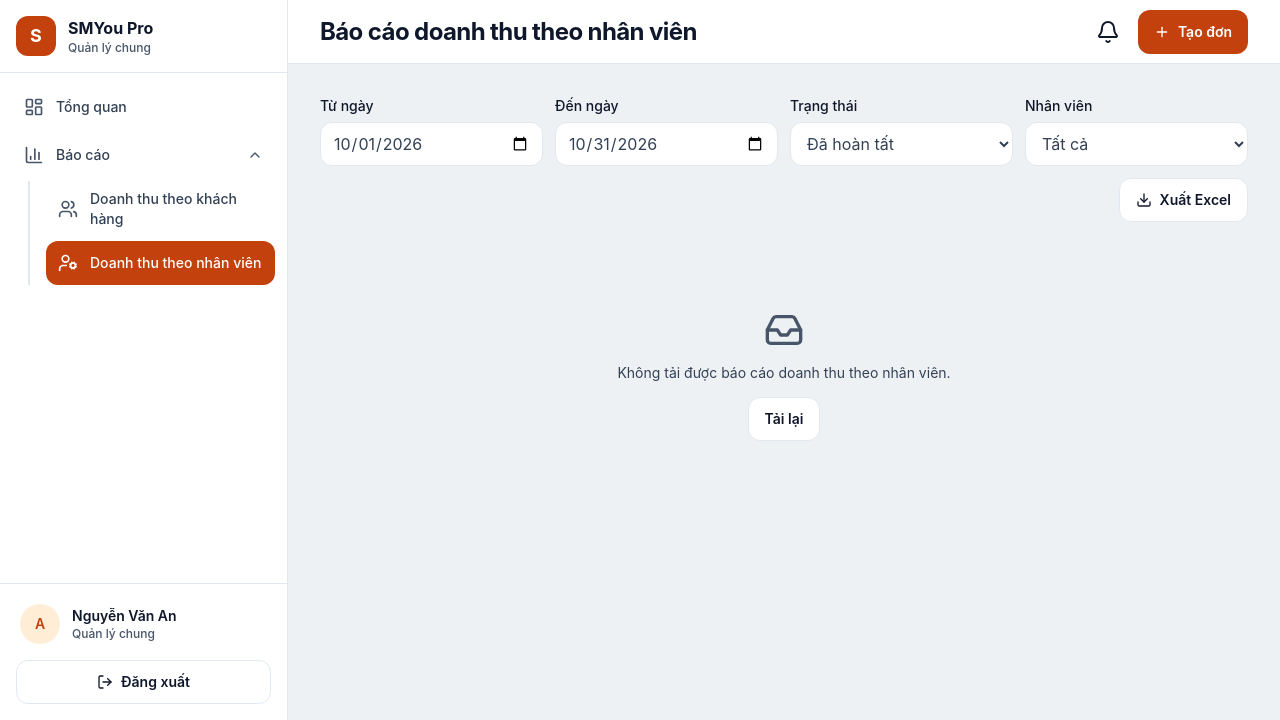
Test: Báo cáo doanh thu theo nhân viên › Lỗi API mạng/5xx → trạng thái lỗi chung + nút Tải lại hoạt động
The width and height of the screenshot is (1280, 720).
expect the text "Không tải được báo cáo doanh thu theo nhân viên." is shown: met, box [617,362,951,385]
Click the button "Tải lại" at (784, 419), box [748,397,820,441]
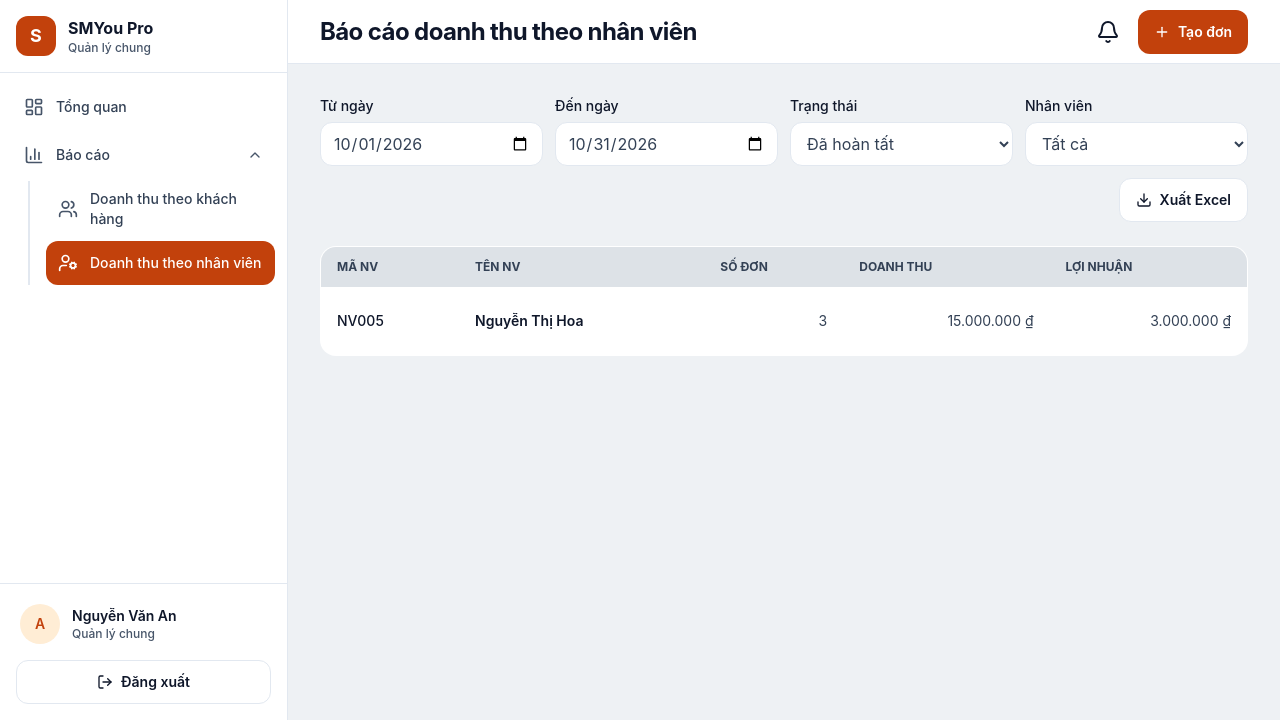
expect the button "Nguyễn Thị Hoa" is shown: met, box [475,299,584,343]
